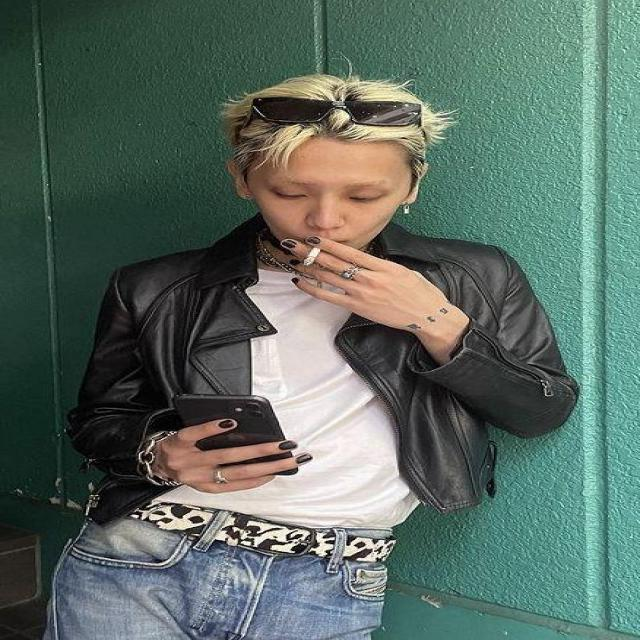cigarette: (269, 240, 342, 278)
